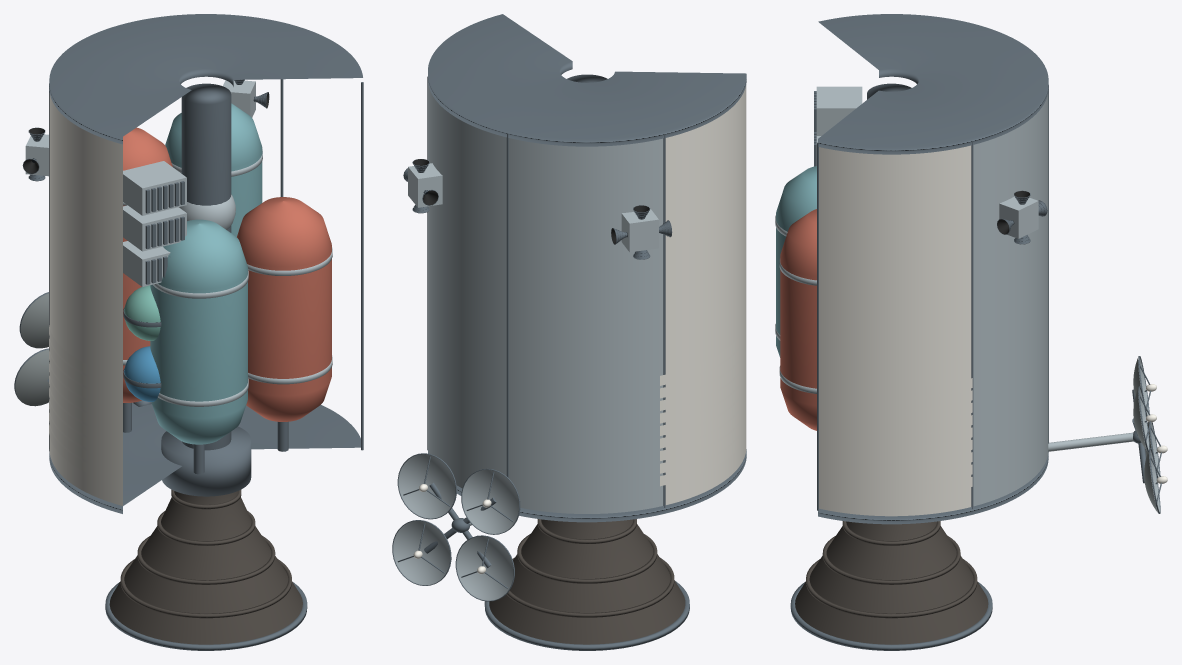
File: apollo_sm_cutaway.glb
3 views of the same model, side by side, from view 1: azimuth 30°, elevation 25°; view 2: azimuth 150°, elevation 25°; view 3: azimuth 270°, elevation 25° (orthographic).
Parts seen in each view (by area): view 1: apollo_sm.mesh, apollo_sm.panel_04.mesh, apollo_sm.sps.nozzle.mesh, apollo_sm.cutaway.sps_fuel_0.mesh, apollo_sm.cutaway.sps_oxidizer_1.mesh, apollo_sm.cutaway.mesh, apollo_sm.sps.mesh, apollo_sm.cutaway.sps_fuel_2.mesh, apollo_sm.radiator_259.mesh, apollo_sm.cutaway.reactant_tanks.mesh, apollo_sm.cutaway.sps_oxidizer_3.mesh, apollo_sm.cutaway.fuel_cell_03.mesh (+7 smaller); view 2: apollo_sm.panel_03.mesh, apollo_sm.panel_02.mesh, apollo_sm.mesh, apollo_sm.panel_04.mesh, apollo_sm.sps.nozzle.mesh, apollo_sm.radiator_259.mesh, apollo_sm.high_gain_antenna.reflector_frame.reflector_03.mes, apollo_sm.high_gain_antenna.reflector_frame.reflector_01.mes, apollo_sm.high_gain_antenna.reflector_frame.reflector_04.mes, apollo_sm.high_gain_antenna.reflector_frame.reflector_02.mes, apollo_sm.rcs_04.mesh, apollo_sm.rcs_03.mesh (+1 smaller); view 3: apollo_sm.panel_01.mesh, apollo_sm.panel_02.mesh, apollo_sm.mesh, apollo_sm.sps.nozzle.mesh, apollo_sm.radiator_99.mesh, apollo_sm.cutaway.sps_oxidizer_1.mesh, apollo_sm.cutaway.sps_fuel_0.mesh, apollo_sm.cutaway.fuel_cell_03.mesh, apollo_sm.rcs_03.mesh, apollo_sm.high_gain_antenna.mesh, apollo_sm.high_gain_antenna.reflector_frame.reflector_04.mes, apollo_sm.high_gain_antenna.reflector_frame.reflector_02.mes (+1 smaller).
Boxes of the visible parts, x1,y1,x2,y2 form: apollo_sm.mesh: (49,14,362,513); apollo_sm.panel_04.mesh: (49,83,122,505); apollo_sm.sps.nozzle.mesh: (105,489,307,650); apollo_sm.cutaway.sps_fuel_0.mesh: (150,219,248,474); apollo_sm.cutaway.sps_oxidizer_1.mesh: (237,197,332,451); apollo_sm.cutaway.mesh: (179,83,235,450); apollo_sm.sps.mesh: (161,426,251,496); apollo_sm.cutaway.sps_fuel_2.mesh: (165,103,262,236); apollo_sm.radiator_259.mesh: (49,325,87,472); apollo_sm.cutaway.reactant_tanks.mesh: (123,285,161,401); apollo_sm.cutaway.sps_oxidizer_3.mesh: (123,127,172,432); apollo_sm.cutaway.fuel_cell_03.mesh: (123,161,186,215); apollo_sm.panel_03.mesh: (506,134,663,513); apollo_sm.panel_02.mesh: (427,76,506,487); apollo_sm.mesh: (428,14,746,522); apollo_sm.panel_04.mesh: (663,85,746,507); apollo_sm.sps.nozzle.mesh: (484,519,689,650); apollo_sm.radiator_259.mesh: (660,338,738,486); apollo_sm.high_gain_antenna.reflector_frame.reflector_03.mes: (461,468,520,534); apollo_sm.high_gain_antenna.reflector_frame.reflector_01.mes: (455,535,514,601); apollo_sm.high_gain_antenna.reflector_frame.reflector_04.mes: (397,453,456,519); apollo_sm.high_gain_antenna.reflector_frame.reflector_02.mes: (392,520,451,585); apollo_sm.rcs_04.mesh: (621,209,658,252); apollo_sm.rcs_03.mesh: (408,163,442,207); apollo_sm.panel_01.mesh: (817,142,971,516); apollo_sm.panel_02.mesh: (971,93,1048,509); apollo_sm.mesh: (818,14,1048,524); apollo_sm.sps.nozzle.mesh: (790,521,992,650); apollo_sm.radiator_99.mesh: (856,378,972,496); apollo_sm.cutaway.sps_oxidizer_1.mesh: (779,209,816,430); apollo_sm.cutaway.sps_fuel_0.mesh: (775,166,816,357); apollo_sm.cutaway.fuel_cell_03.mesh: (814,86,862,135); apollo_sm.rcs_03.mesh: (999,196,1038,238); apollo_sm.high_gain_antenna.mesh: (1048,432,1133,451); apollo_sm.high_gain_antenna.reflector_frame.reflector_04.mes: (1133,386,1156,452); apollo_sm.high_gain_antenna.reflector_frame.reflector_02.mes: (1144,448,1167,513).
Bounding box in the file's own units: 3.93 × 7.27 × 4.9.
